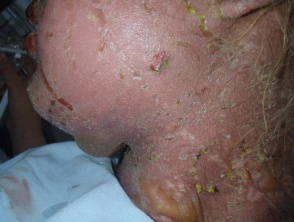SJS-TEN: (132, 121, 294, 222)
